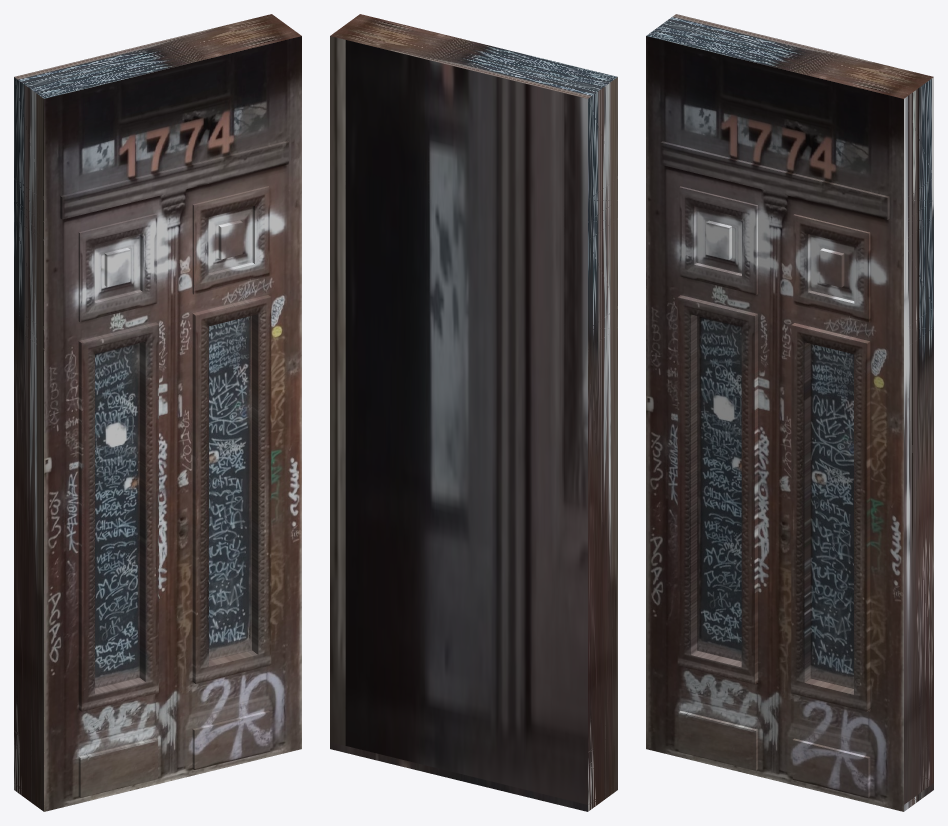
Rendered from puerta taggueada modelo.fbx.
The picture shows the model from 3 angles, left to right: view 1: azimuth 30°, elevation 25°; view 2: azimuth 150°, elevation 25°; view 3: azimuth 330°, elevation 25°; orthographic projection.
Parts seen in each view (by area): view 1: Cube.001; view 2: Cube.001; view 3: Cube.001.
Boxes of the visible parts, x1,y1,x2,y2 form: Cube.001: (14,14,301,811); Cube.001: (330,14,617,811); Cube.001: (646,14,933,811).
Bounding box in the file's own units: 200 × 529 × 44.52.
